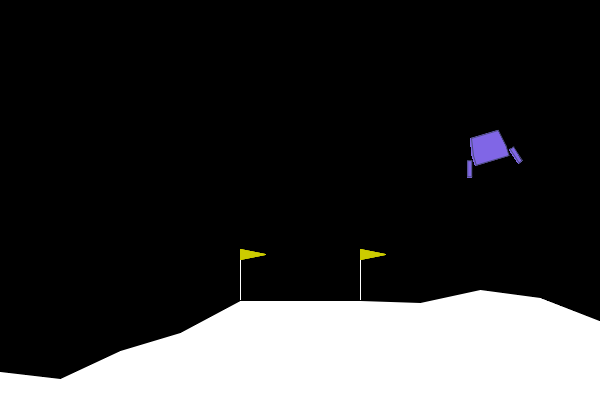lander: (455, 124, 524, 180)
